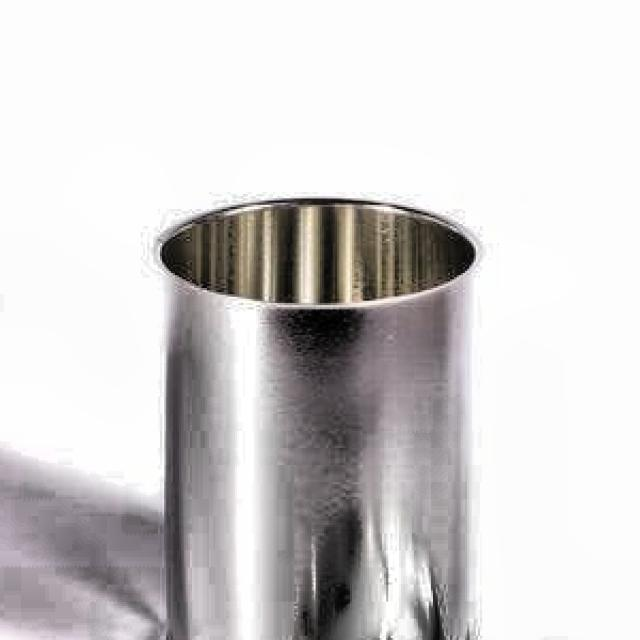metal: (141, 192, 476, 640)
